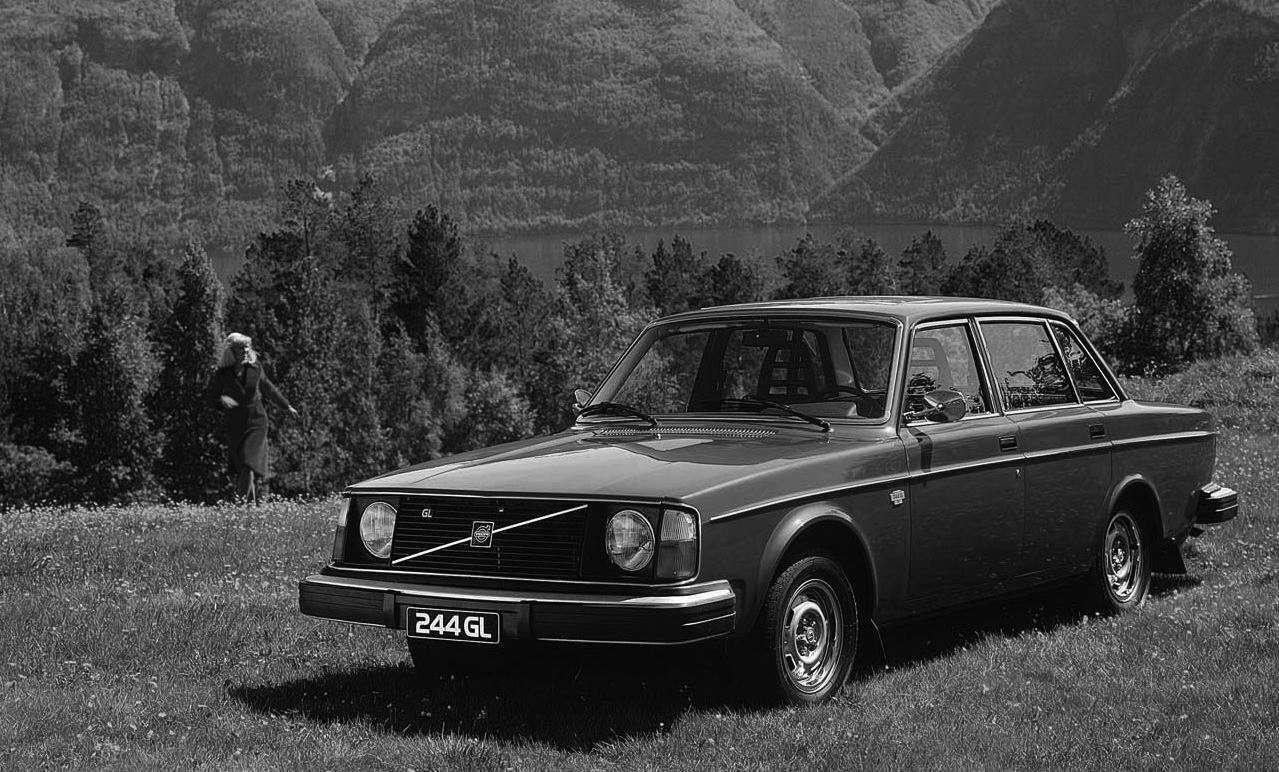car: (284, 291, 1247, 732)
